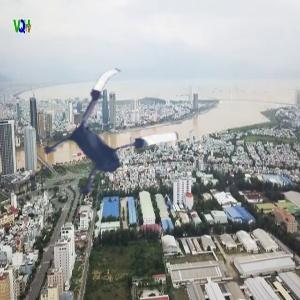drone: (33, 67, 185, 219)
